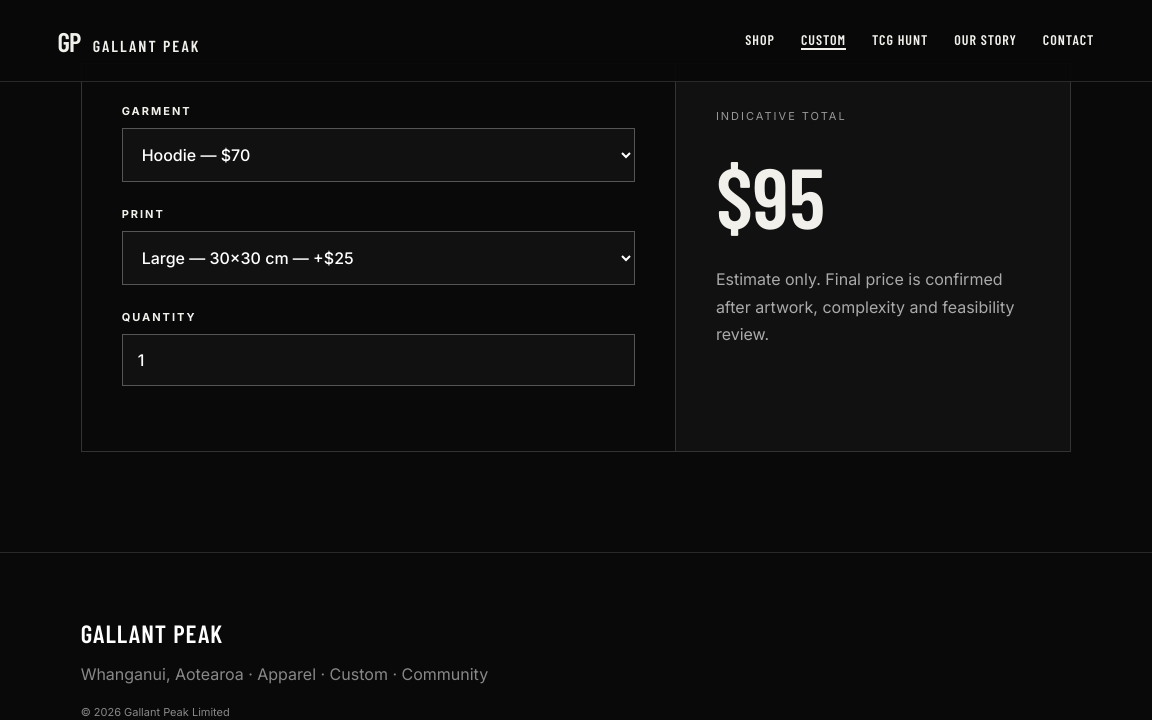
Test case: Custom estimator › withholds the estimate for invalid quantity 0
(page scrolled)
Replace the text in the number field labelled "QUANTITY" with "0": (378, 360) [122,334,635,386]
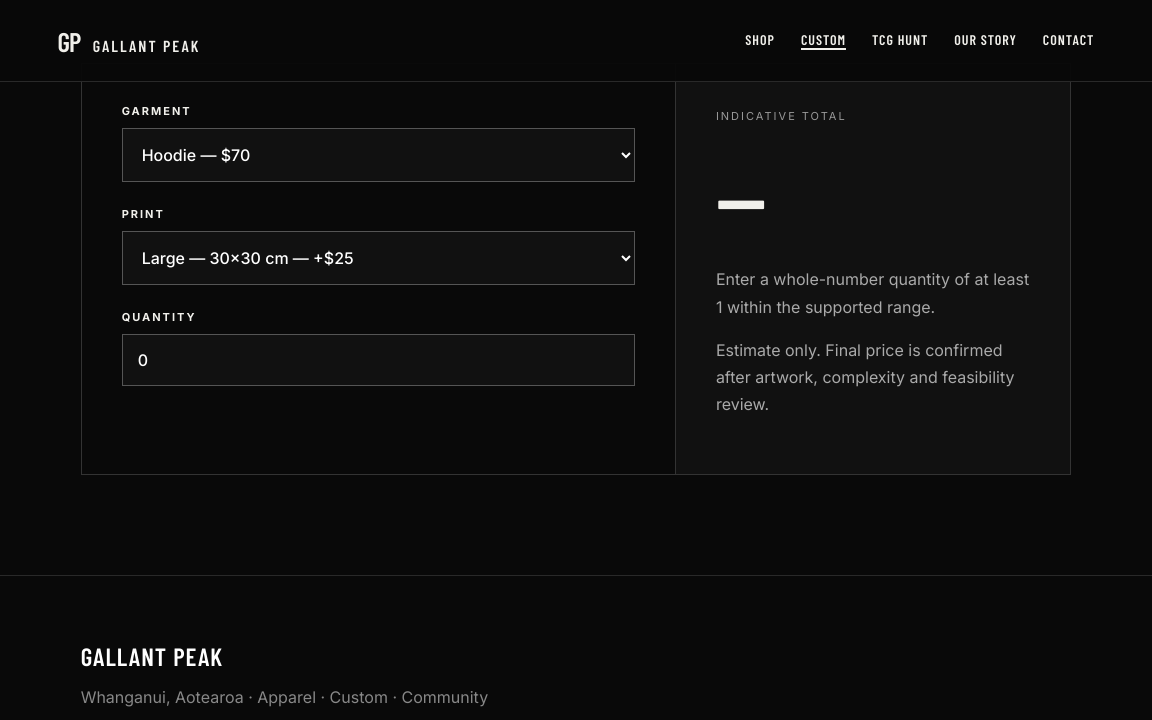
Expected: the message reads "Enter a whole-number quantity of at least 1 within the supported range.", [716,269,1029,316]
